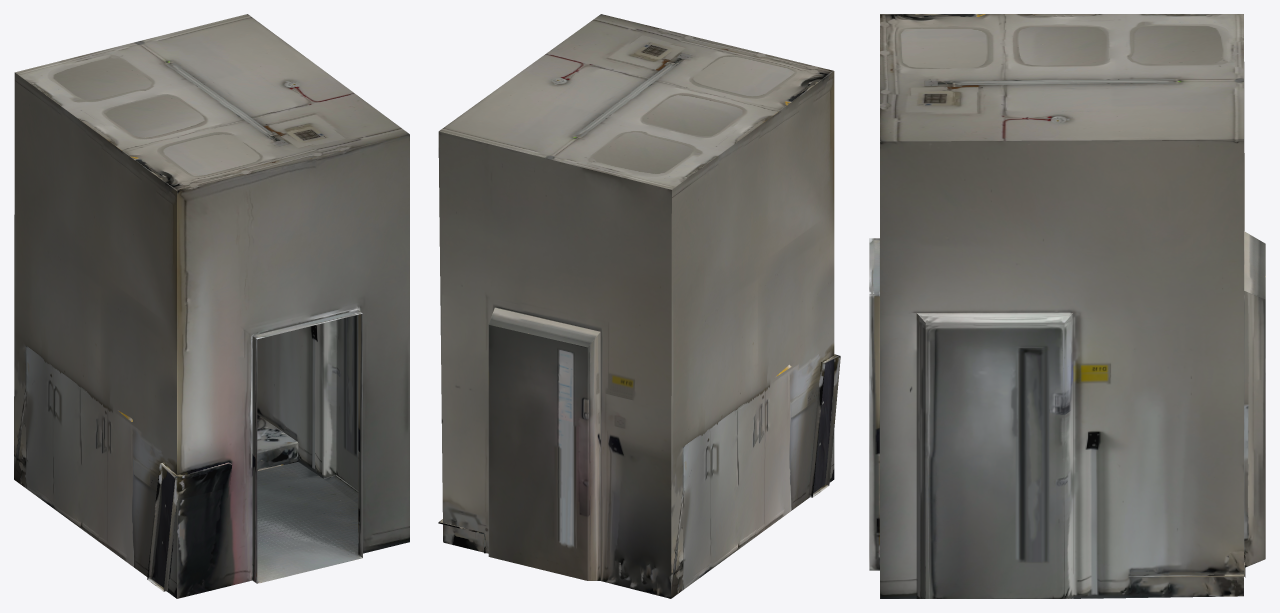
File: well-small-room.fbx
3 renders of one model, left to right at view 1: azimuth 30°, elevation 25°; view 2: azimuth 150°, elevation 25°; view 3: azimuth 270°, elevation 25°, orthographic. The views are drawn at different scales.
Visible parts, largest first — view 1: well-small-room; view 2: well-small-room; view 3: well-small-room.
Boxes of the visible parts, x1,y1,x2,y2 form: well-small-room: (14,14,409,598); well-small-room: (438,14,840,598); well-small-room: (869,14,1265,598).
Size of the model in its own units: 210 by 333 by 260.
1 material, 1 textured.
